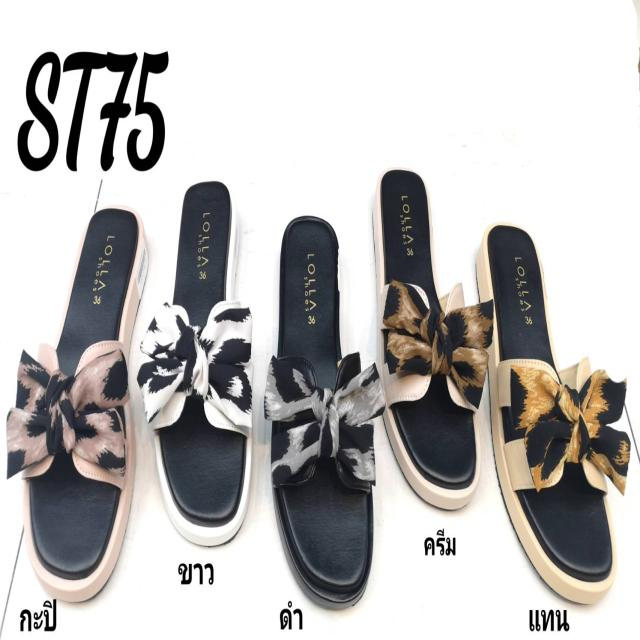black: (269, 217, 372, 606)
cream: (370, 163, 481, 515)
kapi: (23, 205, 147, 599)
tan: (472, 219, 618, 607)
white: (154, 178, 253, 544)
